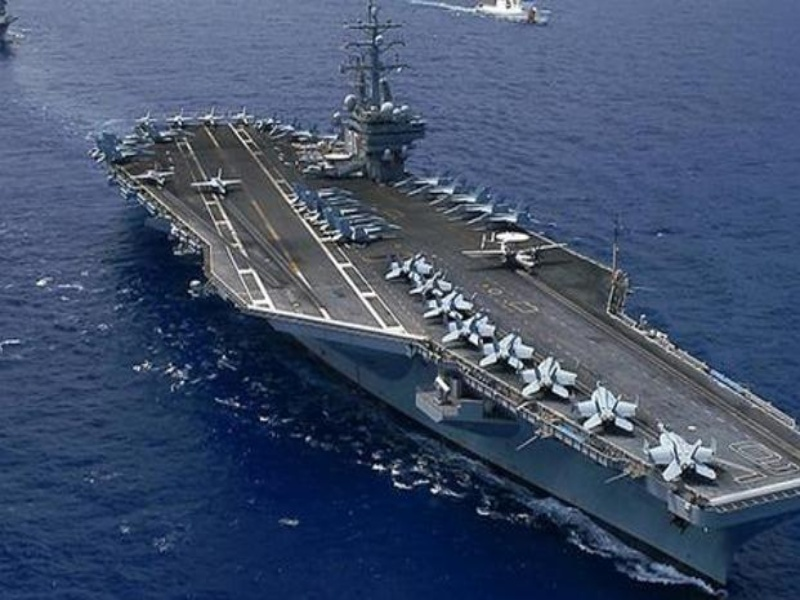boat: (482, 2, 536, 19)
carrier: (102, 50, 785, 579)
